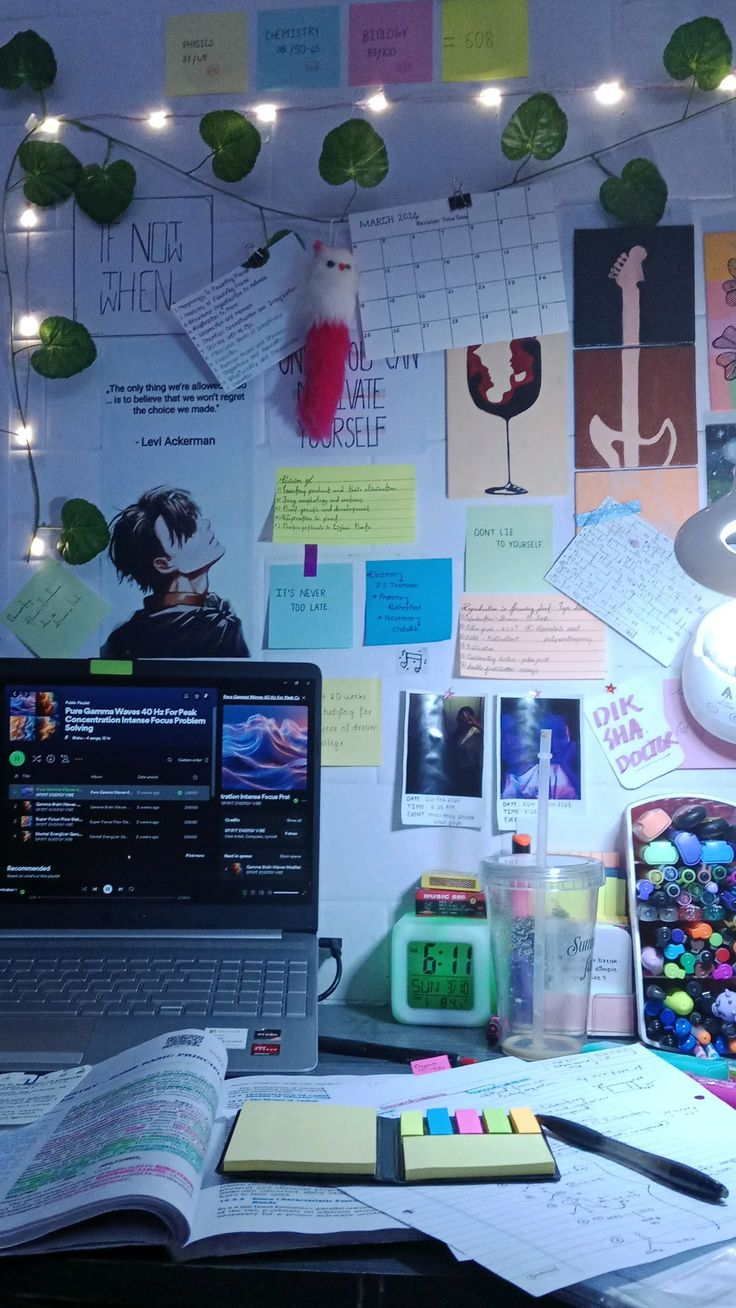not a gesture sign: (67, 51, 543, 626)
